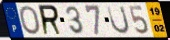3: (65, 5, 84, 36)
5: (128, 5, 150, 36)
7: (83, 4, 102, 36)
O: (18, 5, 43, 36)
R: (38, 4, 64, 37)
U: (105, 4, 131, 35)
